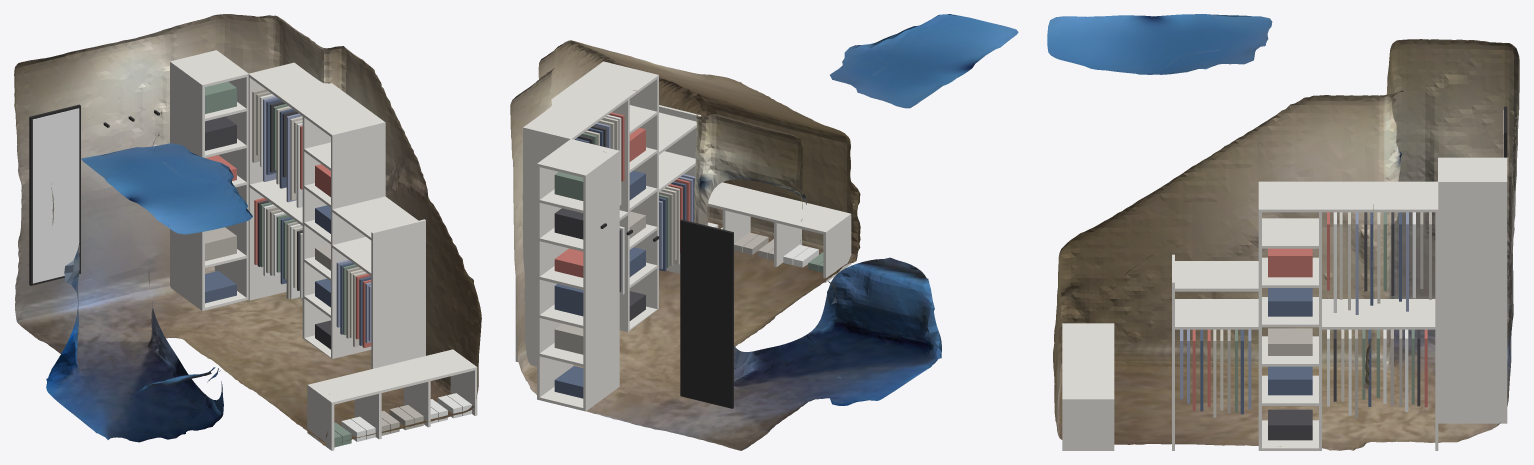
3 views of the same model, side by side, from view 1: azimuth 30°, elevation 25°; view 2: azimuth 150°, elevation 25°; view 3: azimuth 270°, elevation 25° (orthographic). The views are drawn at different scales.
Parts seen in each view (by area): view 1: Scan_Closet2, Mirror_Glass, E1_EndPanel, E2_Panel_S, N_Panel_W, E_Top, Bench_Seat, E2_Panel_N, N_Panel_E, E3_EndPanel, E1_Shelf_142, N_Top (+12 smaller); view 2: Scan_Closet2, Mirror_Frame, N_Panel_W, E_Top, E3_EndPanel, N_Panel_E, Bench_Seat, E2_Panel_S, E2_Panel_N, N_Top, Bench_Div_0, E1_EndPanel (+16 smaller); view 3: Scan_Closet2, N_Panel_E, E_Top, Bench_Seat, E3_Shelf_108, E1_Shelf_108, E1_Shelf_142, Bench_Div_3, E2_Shelf_180, N_Top, Folded, Folded.001 (+12 smaller).
Part boxes in pixels (x1,y1,x2,y2): Scan_Closet2: (14, 14, 481, 445); Mirror_Glass: (32, 108, 79, 283); E1_EndPanel: (371, 219, 425, 368); E2_Panel_S: (331, 121, 385, 358); N_Panel_W: (170, 61, 204, 310); E_Top: (249, 63, 385, 136); Bench_Seat: (307, 349, 477, 404); E2_Panel_N: (302, 100, 356, 338); N_Panel_E: (214, 50, 248, 299); E3_EndPanel: (248, 62, 295, 300); E1_Shelf_142: (332, 196, 418, 239); N_Top: (171, 50, 248, 87); Scan_Closet2: (510, 14, 1018, 450); Mirror_Frame: (680, 219, 733, 408); N_Panel_W: (583, 150, 619, 411); E_Top: (523, 62, 658, 140); E3_EndPanel: (515, 126, 572, 366); N_Panel_E: (537, 139, 573, 399); Bench_Seat: (707, 182, 851, 234); E2_Panel_S: (603, 61, 658, 309); E2_Panel_N: (612, 93, 629, 331); N_Top: (537, 139, 619, 178); Bench_Div_0: (823, 217, 851, 282); E1_EndPanel: (659, 105, 701, 273); Scan_Closet2: (1047, 14, 1519, 450); N_Panel_E: (1438, 180, 1507, 423); E_Top: (1258, 181, 1438, 212); Bench_Seat: (1062, 323, 1114, 401); E3_Shelf_108: (1322, 299, 1435, 329); E1_Shelf_108: (1175, 299, 1258, 329); E1_Shelf_142: (1175, 261, 1258, 291); Bench_Div_3: (1062, 402, 1114, 450); E2_Shelf_180: (1262, 218, 1318, 248); N_Top: (1438, 157, 1507, 184); Folded: (1268, 409, 1312, 440); Folded.001: (1268, 366, 1312, 395).
Size of the model in its own units: 3.17 by 2.6 by 3.81.
13 materials, 1 textured.
